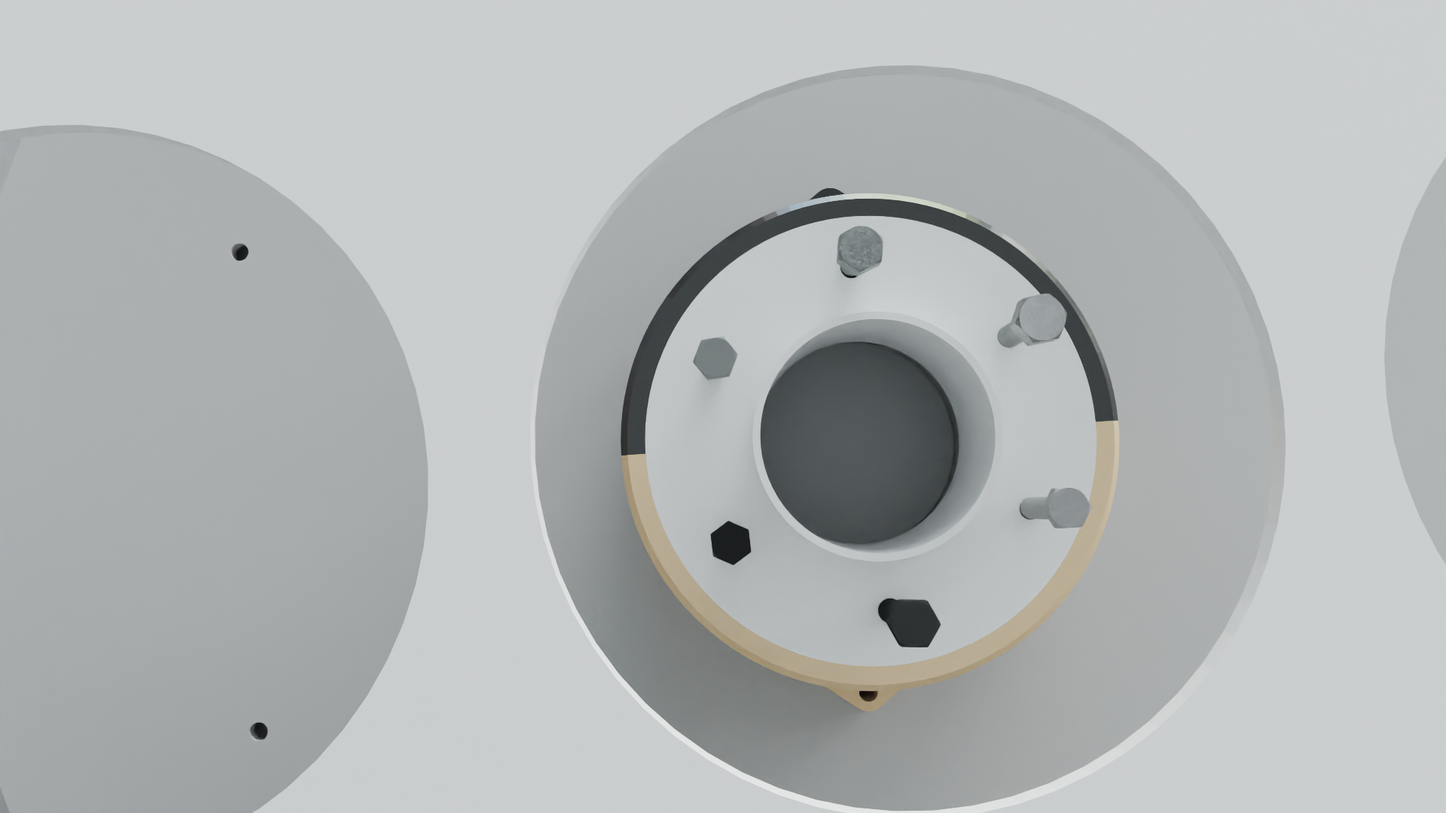bolt: (1015, 294, 1067, 343), (889, 601, 941, 647), (839, 224, 883, 273), (693, 336, 738, 379), (1046, 487, 1092, 528), (710, 521, 752, 565)
